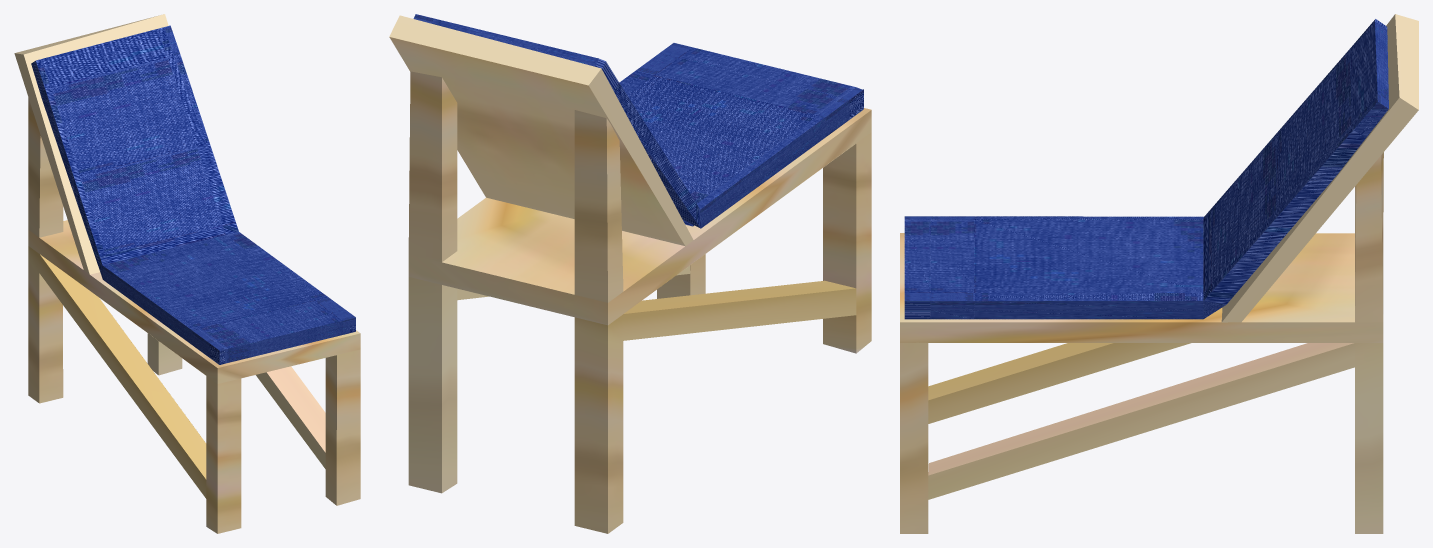
File: beach chair.glb
The picture shows the model from 3 angles, left to right: view 1: azimuth 30°, elevation 25°; view 2: azimuth 150°, elevation 25°; view 3: azimuth 270°, elevation 25°; orthographic projection. The views are drawn at different scales.
Visible parts, largest first — view 1: Cube.001, Cube; view 2: Cube, Cube.001; view 3: Cube, Cube.001.
Boxes of the visible parts, x1,y1,x2,y2 form: Cube.001: (31, 25, 355, 364); Cube: (14, 14, 360, 533); Cube: (389, 15, 871, 533); Cube.001: (413, 14, 863, 228); Cube: (900, 14, 1418, 533); Cube.001: (904, 19, 1388, 319).
Size of the model in its own units: 0.9022 by 2.06 by 2.21.
Materials: 2 (2 with a texture image).
